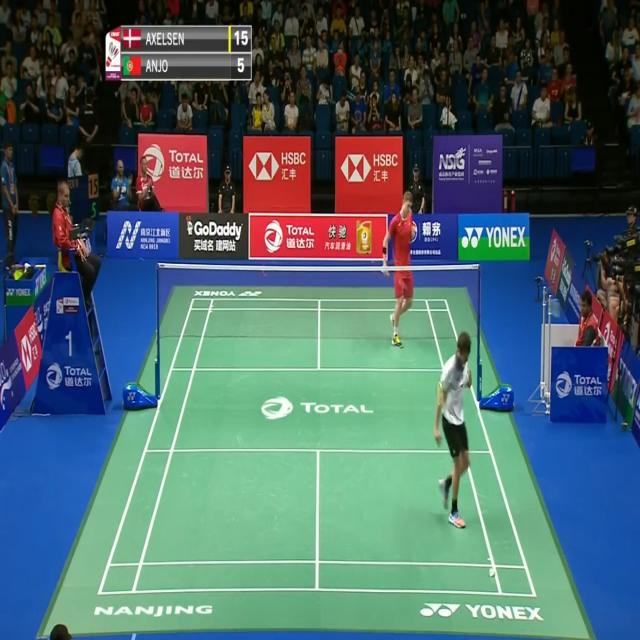Player1: (434, 332, 474, 532)
Player2: (380, 190, 420, 348)
